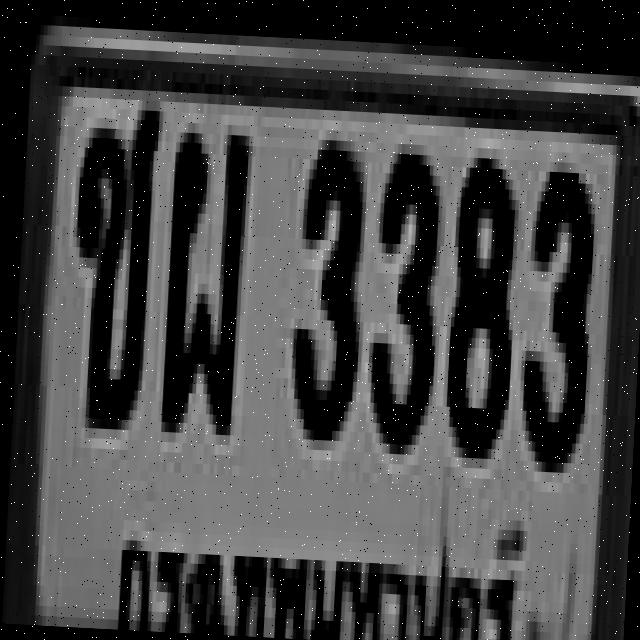19ChorChang: (64, 87, 160, 421)
3: (286, 124, 366, 426), (364, 138, 442, 441), (516, 156, 594, 459)
37PhorPhueng: (158, 122, 246, 426)
8: (441, 142, 518, 445)
